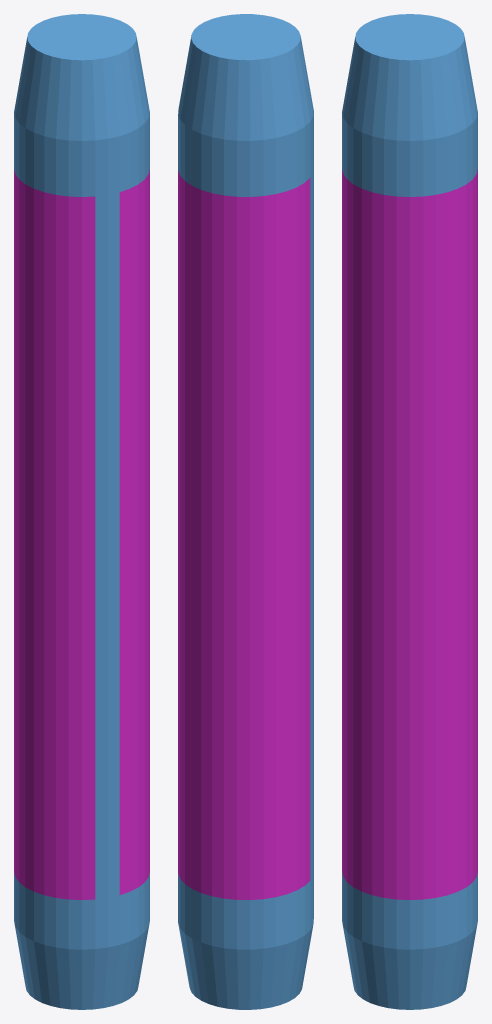
The model's file is Implante.fbx.
The picture shows the model from 3 angles, left to right: view 1: azimuth 90°, elevation 25°; view 2: azimuth 150°, elevation 25°; view 3: azimuth 270°, elevation 25°; orthographic projection.
Parts seen in each view (by area): view 1: Azul_Tra; view 2: Azul_Tra; view 3: Azul_Tra.
Boxes of the visible parts, x1,y1,x2,y2 form: Azul_Tra: [14, 14, 149, 1009]; Azul_Tra: [178, 14, 313, 1009]; Azul_Tra: [342, 14, 477, 1009].
Bounding box in the file's own units: 96.07 × 740 × 96.07.
